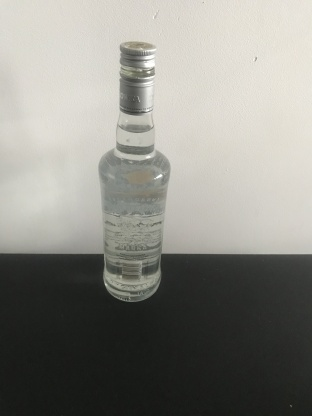nakretka: (118, 39, 157, 116)
